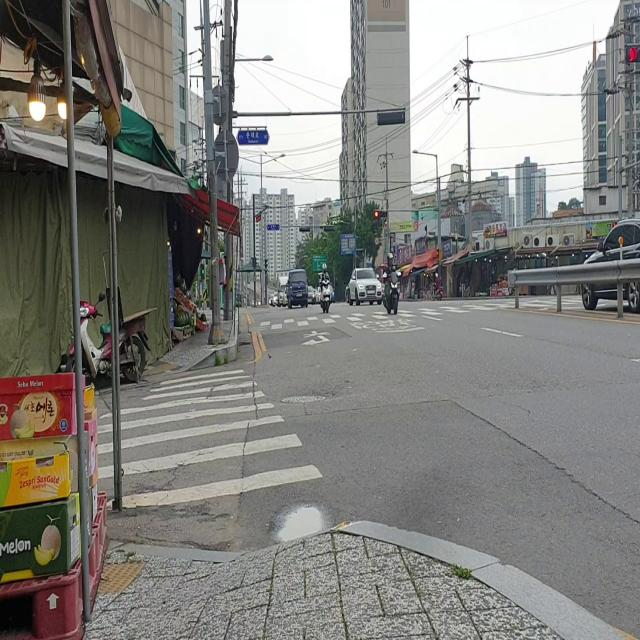횡단보도: (96, 367, 324, 512), (257, 300, 583, 331)
